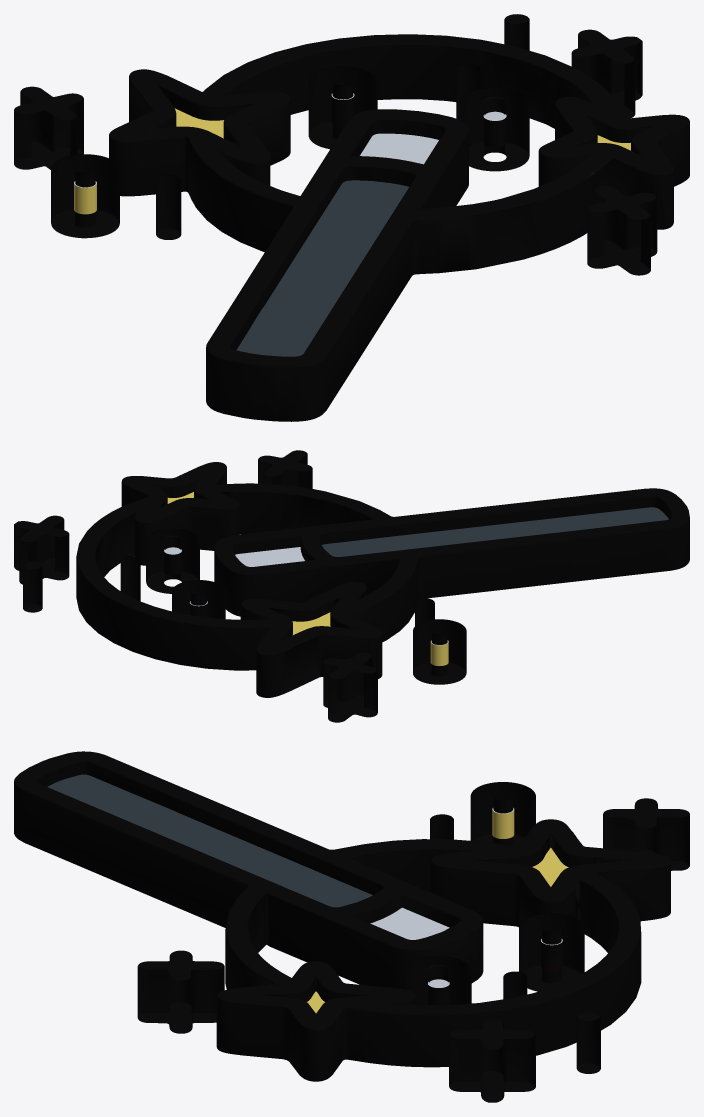
The model's file is Effect.glb.
3 renders of one model, top to bottom at view 1: azimuth 30°, elevation 25°; view 2: azimuth 150°, elevation 25°; view 3: azimuth 270°, elevation 25°, orthographic. The views are drawn at different scales.
Visible parts, largest first — view 1: Curve.014; view 2: Curve.014; view 3: Curve.014.
Boxes of the visible parts, x1,y1,x2,y2 form: Curve.014: (14,14,689,421); Curve.014: (14,450,689,722); Curve.014: (14,751,689,1102).
Size of the model in its own units: 2.52 by 0.2079 by 2.4.
Materials: 1 (1 with a texture image).
